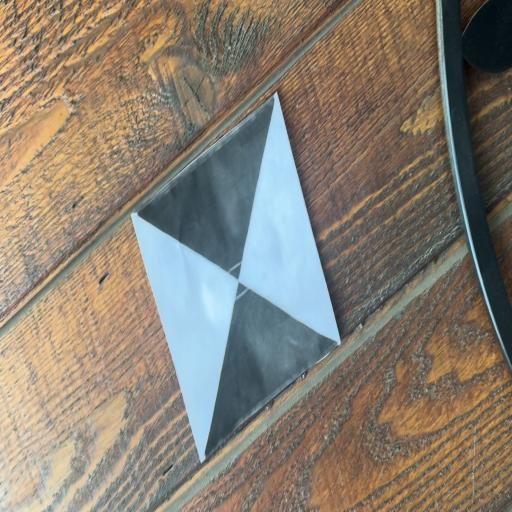target: (132, 92, 341, 463)
